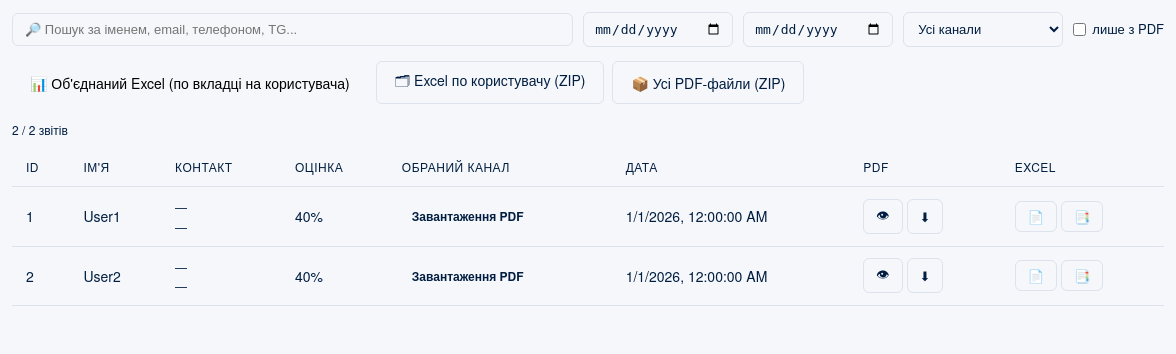
Test case: AdminTestReports — async PDF-ZIP export › tells the admin when a job disappeared mid-poll (404 / swept)
This screenshot has width=1176, height=354.
Click the button "📦 Усі PDF-файли (ZIP)" at (708, 82), box left=612, top=61, right=804, bottom=104
Wait 3000 ms
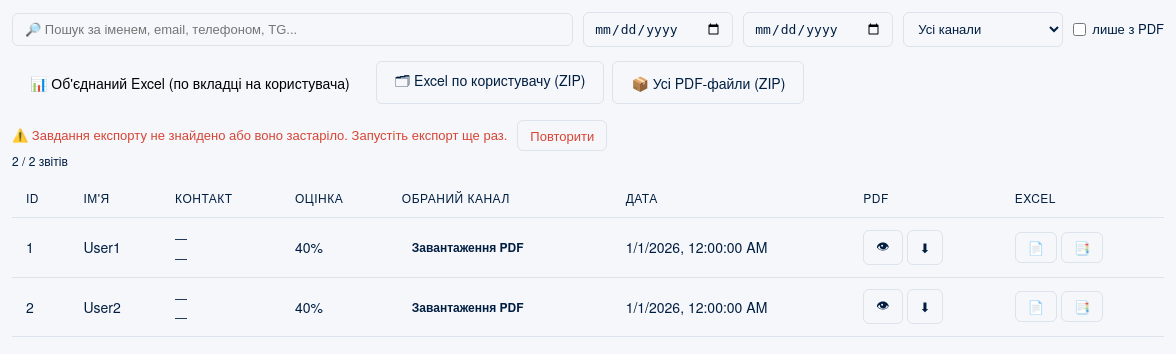
Expected: the text "Завдання експорту не знайдено або воно застаріло" is shown, left=32, top=125, right=507, bottom=144
